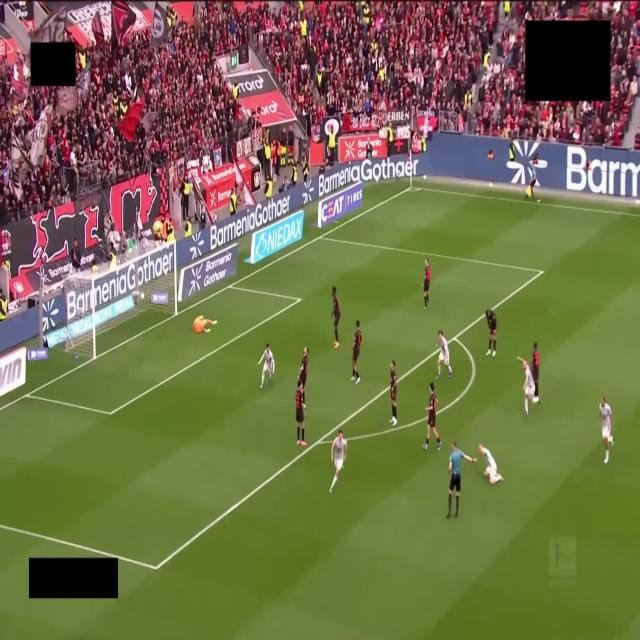player: (447, 442, 476, 519), (423, 383, 441, 450), (330, 430, 347, 492), (479, 445, 503, 485), (518, 357, 534, 415), (599, 397, 613, 463), (295, 381, 307, 446), (258, 344, 274, 388), (437, 331, 452, 377), (351, 320, 361, 383), (299, 347, 308, 408), (531, 343, 540, 403), (525, 154, 537, 199), (332, 287, 340, 348), (486, 309, 496, 356), (390, 360, 397, 426), (193, 315, 216, 334), (423, 258, 431, 309), (526, 174, 536, 199)
